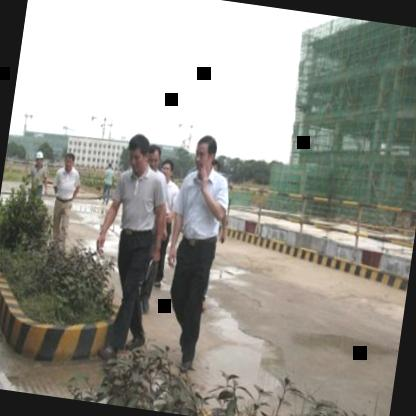head: (190, 129, 221, 179), (122, 132, 152, 176), (145, 140, 163, 172), (159, 156, 177, 186), (59, 148, 77, 174)
helmet: (32, 147, 46, 168)
